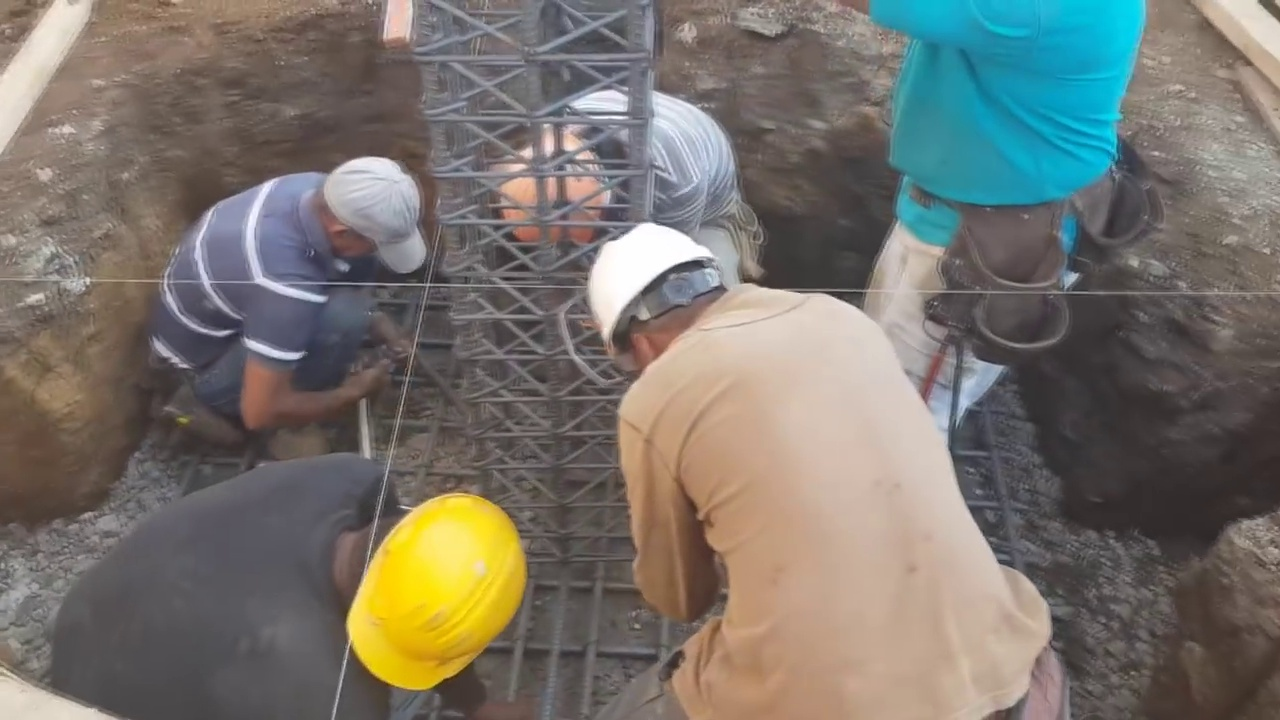helmet: (351, 491, 519, 698), (589, 213, 717, 354), (494, 144, 603, 239)
helmet-off: (313, 157, 430, 266)
helmet-on: (315, 489, 520, 696), (591, 208, 753, 383), (494, 117, 640, 242)
person: (588, 213, 1086, 718), (40, 458, 528, 720), (874, 0, 1145, 450), (156, 138, 441, 465), (492, 79, 766, 291)
